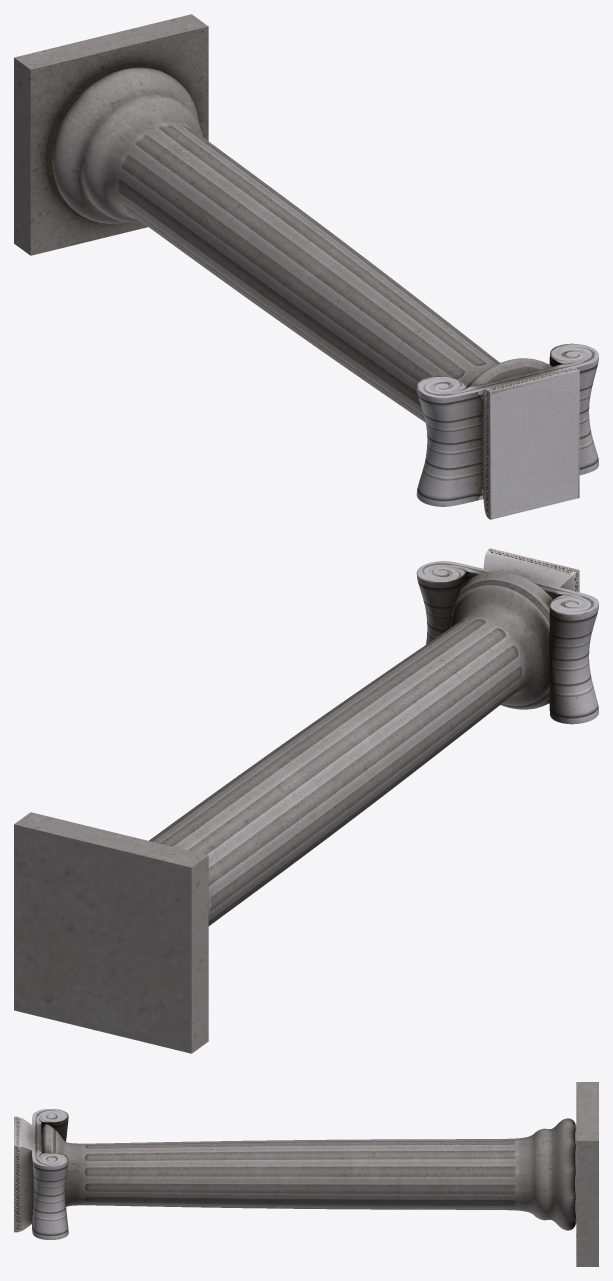
Rendered from 10413_Ionic_ Column_v01_iterations-2.obj.
3 views of the same model, one above another, from view 1: azimuth 30°, elevation 25°; view 2: azimuth 150°, elevation 25°; view 3: azimuth 270°, elevation 25° (orthographic). The views are drawn at different scales.
Visible parts, largest first — view 1: 10413_Ionic_Column; view 2: 10413_Ionic_Column; view 3: 10413_Ionic_Column.
Part boxes in pixels (x1=…): 10413_Ionic_Column: x1=14, y1=14, x2=598, y2=519; 10413_Ionic_Column: x1=14, y1=548, x2=598, y2=1053; 10413_Ionic_Column: x1=14, y1=1082, x2=598, y2=1266.
Bounding box in the file's own units: 46.46 × 46.46 × 196.
Materials: 1 (1 with a texture image).
